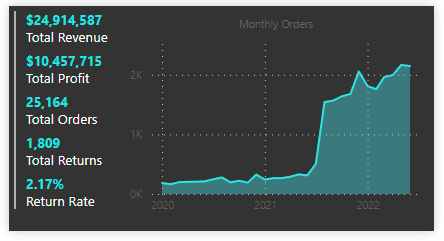

The dashboard page shown, as its layout file describes it:
{"tool":"powerbi","page":{"name":"Category Tooltip","canvas":[425,225],"ordinal":4},"visuals":[{"type":"multiRowCard","fields":{"Values":["Measure Table.Total Revenue","Measure Table.Total Profit","Measure Table.Total Orders","Measure Table.Total Returns","Measure Table.Return Rate"]},"box":[0,0,116,217],"z":0},{"type":"areaChart","title":"Monthly Orders","fields":{"Y":["Measure Table.Total Orders"],"Category":["Calendar Lookup.Start of Month"]},"box":[116,10,302,207],"z":1000}]}

Visuals, with their boxes in screenshot pixels (x1, y1, x2, y2), scaled from the page's 425x225 canvas onto the 444x241 screenshot:
multiRowCard - Measure Table.Total Revenue x Measure Table.Total Profit: x1=0 y1=0 x2=121 y2=232
"Monthly Orders" areaChart: x1=121 y1=11 x2=437 y2=232
